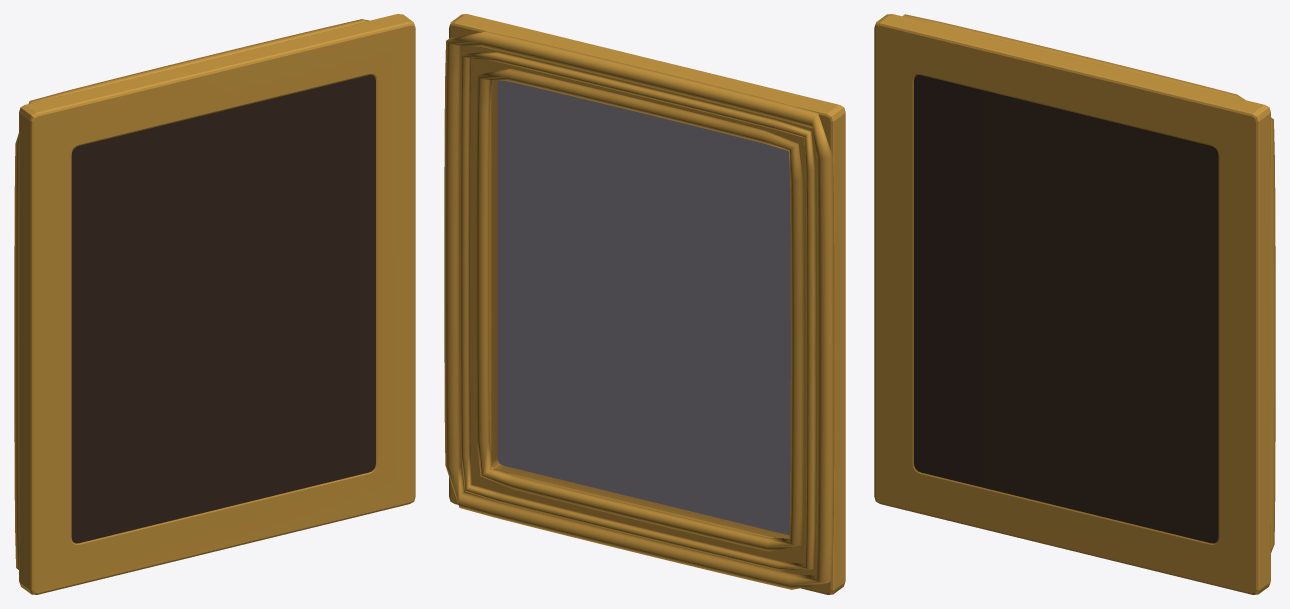
Rendered from frame_picture__020.glb.
The picture shows the model from 3 angles, left to right: view 1: azimuth 30°, elevation 25°; view 2: azimuth 150°, elevation 25°; view 3: azimuth 330°, elevation 25°; orthographic projection.
Parts seen in each view (by area): view 1: prop_frame_picture, merged_toon_C8963C; view 2: prop_frame_picture, merged_toon_C8963C; view 3: prop_frame_picture, merged_toon_C8963C.
Boxes of the visible parts, <box> form: prop_frame_picture: <box>71,75,375,543</box>; merged_toon_C8963C: <box>14,14,415,594</box>; prop_frame_picture: <box>497,80,790,535</box>; merged_toon_C8963C: <box>444,14,845,594</box>; prop_frame_picture: <box>914,75,1218,543</box>; merged_toon_C8963C: <box>874,14,1275,594</box>.
Size of the model in its own units: 0.7368 by 0.8801 by 0.063.
